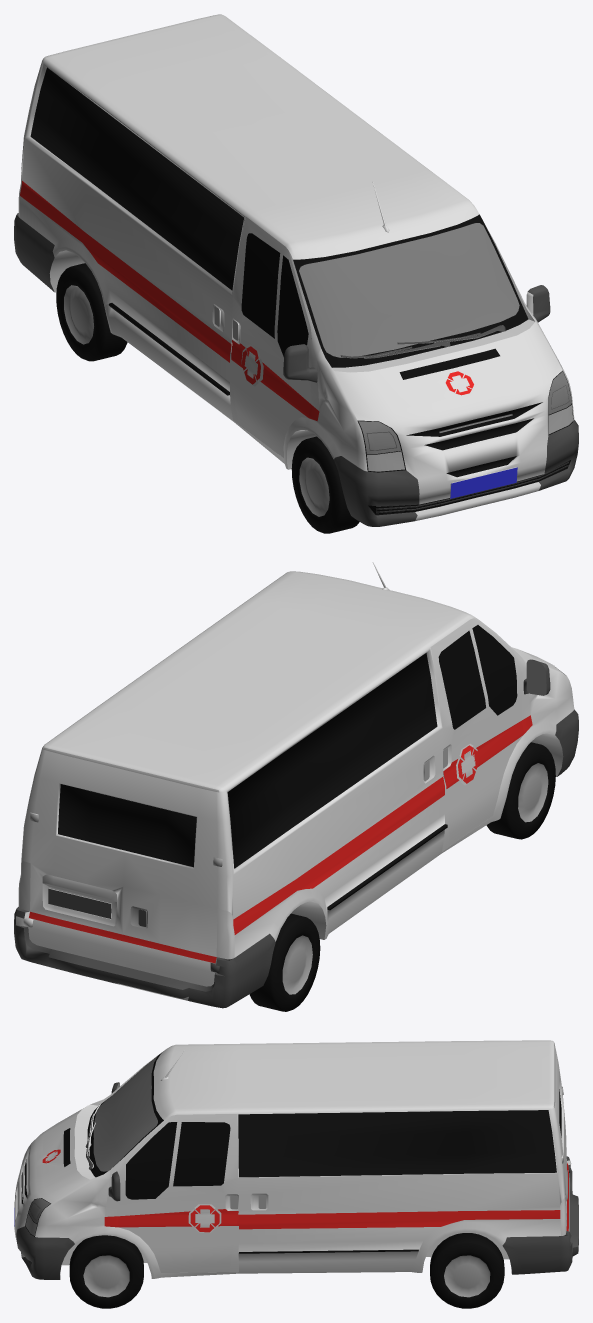
The model's file is sadfgsdgsa.fbx.
The picture shows the model from 3 angles, top to bottom: view 1: azimuth 30°, elevation 25°; view 2: azimuth 150°, elevation 25°; view 3: azimuth 270°, elevation 25°; orthographic projection. The views are drawn at different scales.
Parts seen in each view (by area): view 1: FR; view 2: FR; view 3: FR.
Part boxes in pixels (left/top/right/bottom): FR: left=14, top=14, right=578, bottom=533; FR: left=14, top=562, right=578, bottom=1011; FR: left=14, top=1040, right=578, bottom=1308.
Size of the model in its own units: 24.33 by 25.07 by 58.78.
